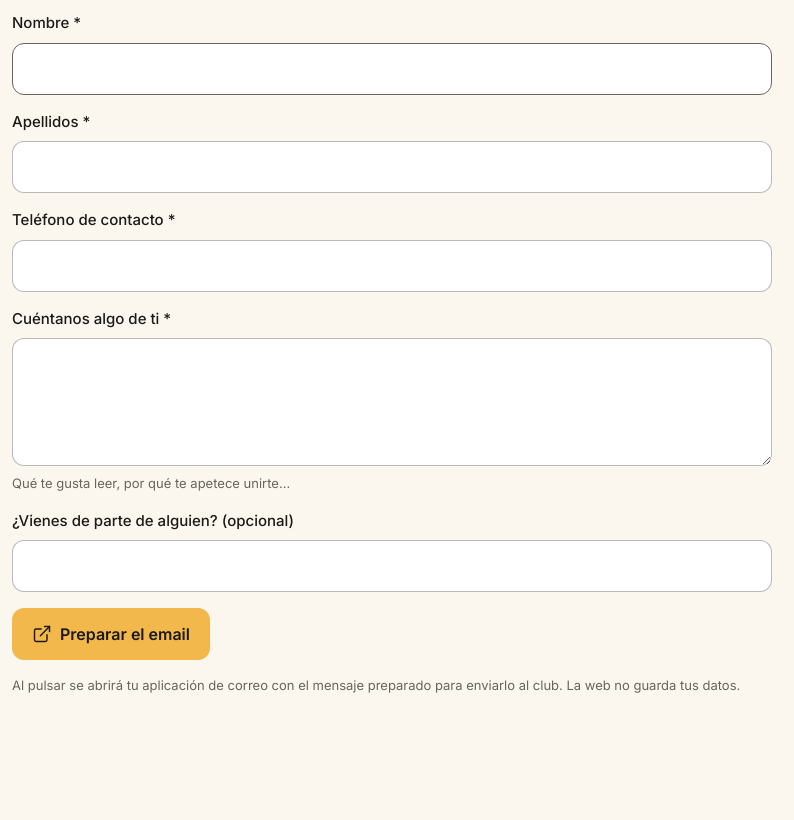
JoinForm › marca los campos obligatorios que faltan y no abre el correo
This screenshot has width=794, height=820.
What coordinates should you click on to do the following:
click the button "Preparar el email"
I would click on:
 (111, 634)
Its box is [12,608,210,660].
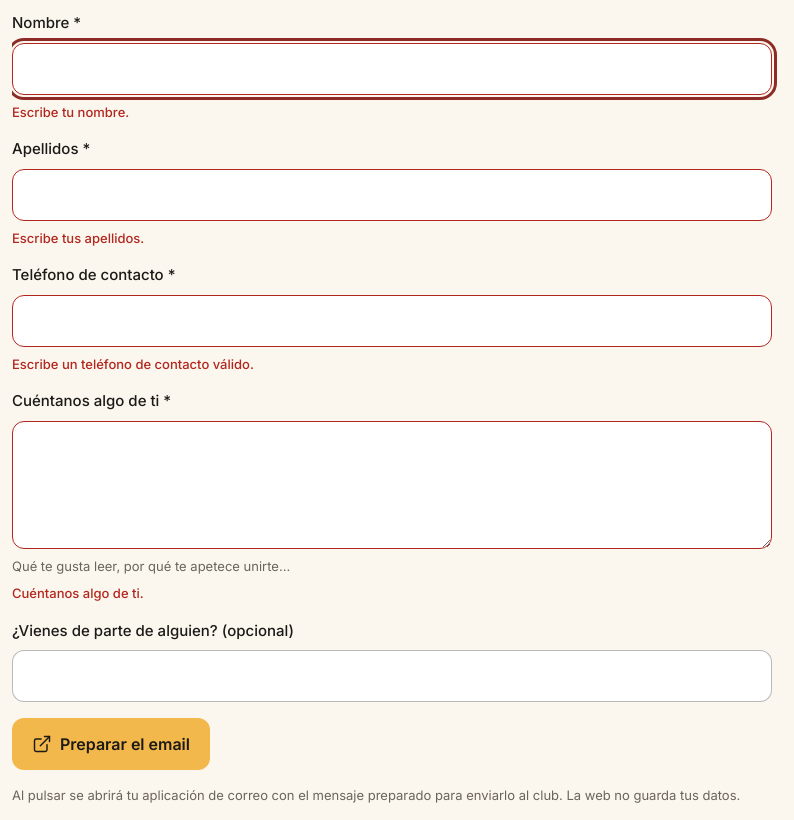
Expected: the text "Escribe tu nombre." is shown, [12,104,129,120]
Expected: the text "Escribe un teléfono de contacto válido." is shown, [12,356,254,372]
